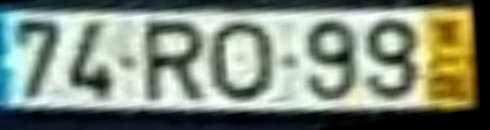4: (64, 20, 122, 106)
7: (12, 18, 70, 105)
9: (363, 15, 425, 104), (303, 18, 364, 106)
O: (207, 20, 280, 106)
R: (143, 20, 212, 105)
